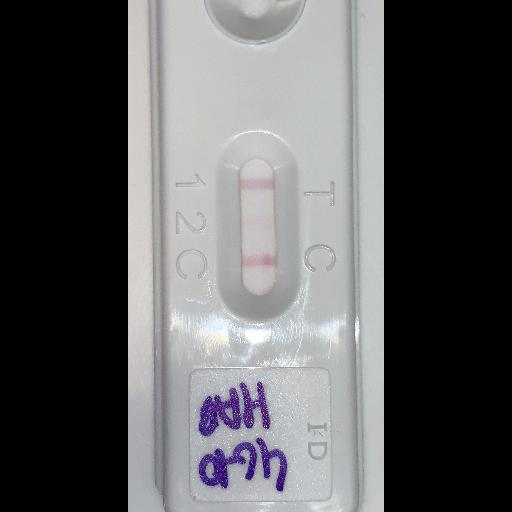Pos: (155, 0, 365, 511)
